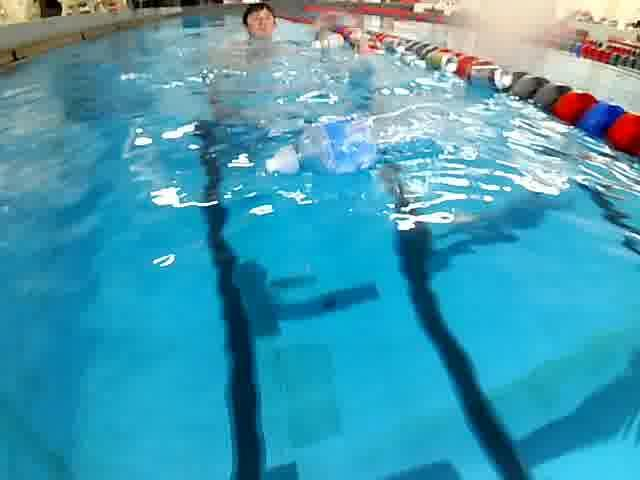Bottle: (252, 102, 472, 180), (304, 25, 348, 56)
Can: (420, 40, 462, 80), (465, 60, 509, 96), (376, 28, 405, 60), (347, 26, 376, 56)
